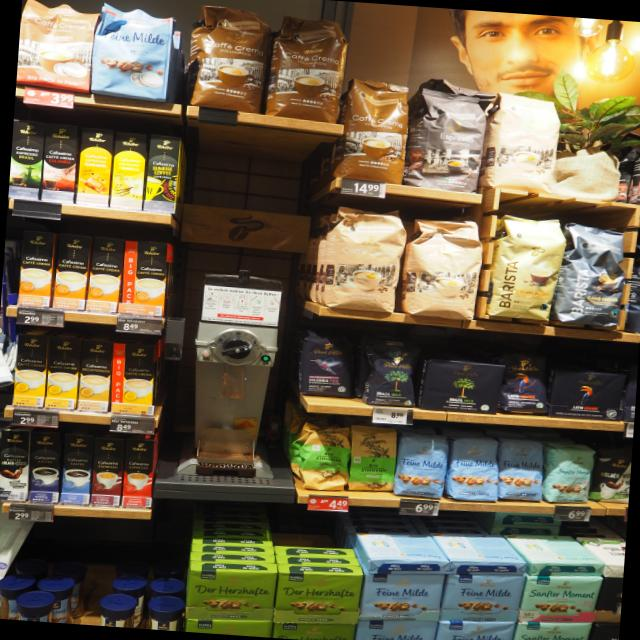Athiopien Bohne: (298, 422, 352, 492)
Athiopien Gemahlen: (344, 423, 398, 492)
BM Bohne: (358, 342, 421, 407)
BM Gemahlen: (417, 357, 507, 415)
Barista CB: (483, 212, 569, 324)
Barista CC: (552, 220, 628, 330)
C Fino Bohne: (299, 330, 354, 398)
CC Mild: (320, 200, 410, 314), (400, 215, 486, 322), (479, 90, 564, 198)
CC Vollmundig: (16, 0, 102, 95)
CC Vollmundig 36 Pads: (261, 10, 352, 125), (184, 1, 274, 115), (336, 76, 413, 186)
Empty Shelf: (308, 335, 360, 405), (270, 527, 371, 563), (268, 515, 349, 548)
Espresso Aromatisch: (404, 84, 489, 194)
FM 36 Pads: (88, 0, 179, 105)
FM Bohne: (391, 428, 450, 501), (442, 433, 502, 502), (492, 436, 548, 504)
FM Gemahlen: (359, 573, 446, 621), (439, 574, 526, 622), (430, 533, 527, 564), (356, 532, 449, 562)
Herzhatfe Mundig: (187, 568, 278, 620), (274, 573, 364, 624)
LG Bohne: (497, 351, 550, 416)
LG Gemahlen: (548, 367, 628, 419)
SM Bohne: (540, 440, 595, 505)
SM Gemahlen: (519, 577, 603, 622), (502, 534, 604, 565), (514, 622, 592, 640)
Simo CC Colombia: (41, 121, 79, 206)
Simo CCMild: (110, 340, 156, 416)
Simo CCMild bigpack: (11, 332, 50, 408), (43, 334, 82, 410)
Simo CCVollmundig: (120, 239, 169, 319)
Simo CCVollmundig bigpack: (84, 235, 126, 314), (16, 229, 56, 309), (51, 232, 91, 312)
Simo Decaff: (77, 338, 112, 413)
Simo Es Brazil: (9, 118, 46, 202)
Simo Es Caramel: (74, 123, 116, 210)
Simo Es Elegant: (120, 438, 156, 509)
Simo Es Kraft: (89, 435, 127, 507)
Simo Es Vanilla: (110, 130, 148, 212)
Simo Kaffee BW: (590, 443, 631, 505), (0, 427, 30, 502)
Simo Kaffee Kraft: (27, 431, 61, 503)
Simo Kaffee Mild: (58, 432, 94, 505)
Simo Sunrise: (143, 134, 184, 215)
